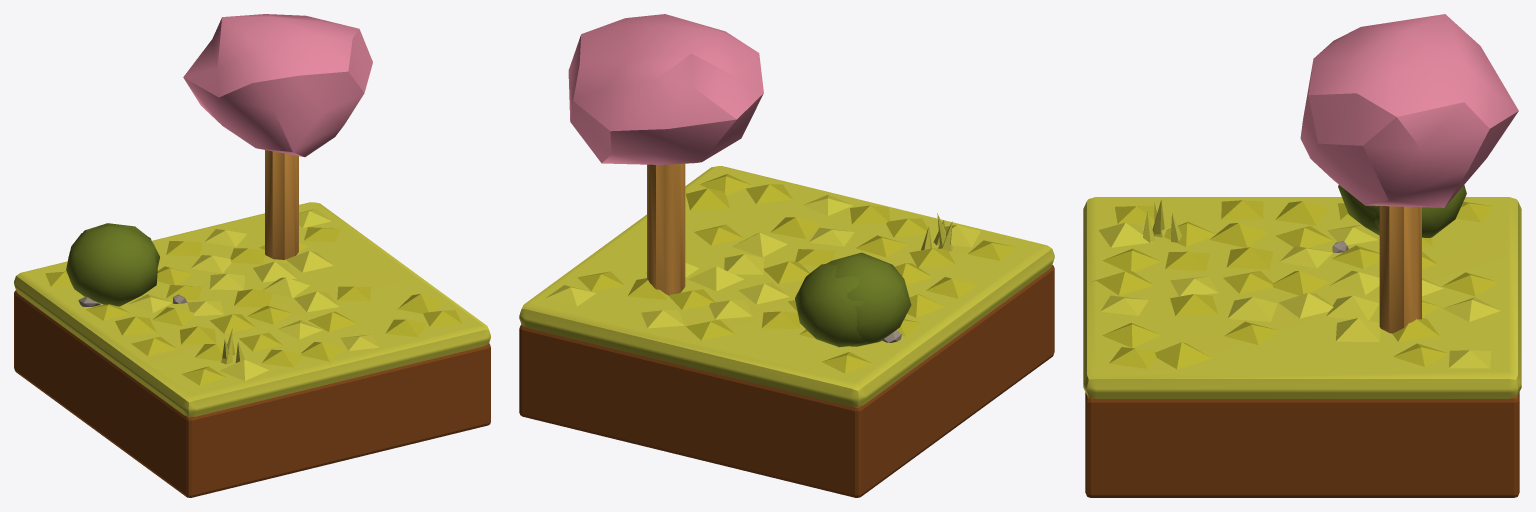
File: tile_grove_flowering.glb
3 renders of one model, left to right at view 1: azimuth 30°, elevation 25°; view 2: azimuth 150°, elevation 25°; view 3: azimuth 270°, elevation 25°, orthographic. The views are drawn at different scales.
Parts seen in each view (by area): view 1: tile_grove_flowering_cap, tile_grove_flowering_body, gfl_leaf, tile_grove_flowering_b_lobe0, gfl_trunk; view 2: tile_grove_flowering_cap, tile_grove_flowering_body, gfl_leaf, gfl_trunk, tile_grove_flowering_b_lobe0, tile_grove_flowering_b_lobe2; view 3: tile_grove_flowering_cap, tile_grove_flowering_body, gfl_leaf, gfl_trunk, tile_grove_flowering_b_lobe2, tile_grove_flowering_b_lobe0.
Part boxes in pixels (<box>): tile_grove_flowering_cap: <box>14,202,490,416</box>; tile_grove_flowering_body: <box>14,290,490,497</box>; gfl_leaf: <box>183,14,372,157</box>; tile_grove_flowering_b_lobe0: <box>66,224,157,306</box>; gfl_trunk: <box>265,150,298,259</box>; tile_grove_flowering_cap: <box>519,166,1054,406</box>; tile_grove_flowering_body: <box>519,265,1054,497</box>; gfl_leaf: <box>568,14,763,164</box>; gfl_trunk: <box>647,163,685,295</box>; tile_grove_flowering_b_lobe0: <box>827,252,911,346</box>; tile_grove_flowering_b_lobe2: <box>795,263,865,347</box>; tile_grove_flowering_cap: <box>1083,197,1521,398</box>; tile_grove_flowering_body: <box>1085,392,1519,497</box>; gfl_leaf: <box>1300,14,1518,207</box>; gfl_trunk: <box>1379,206,1421,333</box>; tile_grove_flowering_b_lobe2: <box>1365,185,1466,237</box>; tile_grove_flowering_b_lobe0: <box>1338,185,1379,235</box>.
Bounding box in the file's own units: 2.02 × 2.11 × 2.02.
